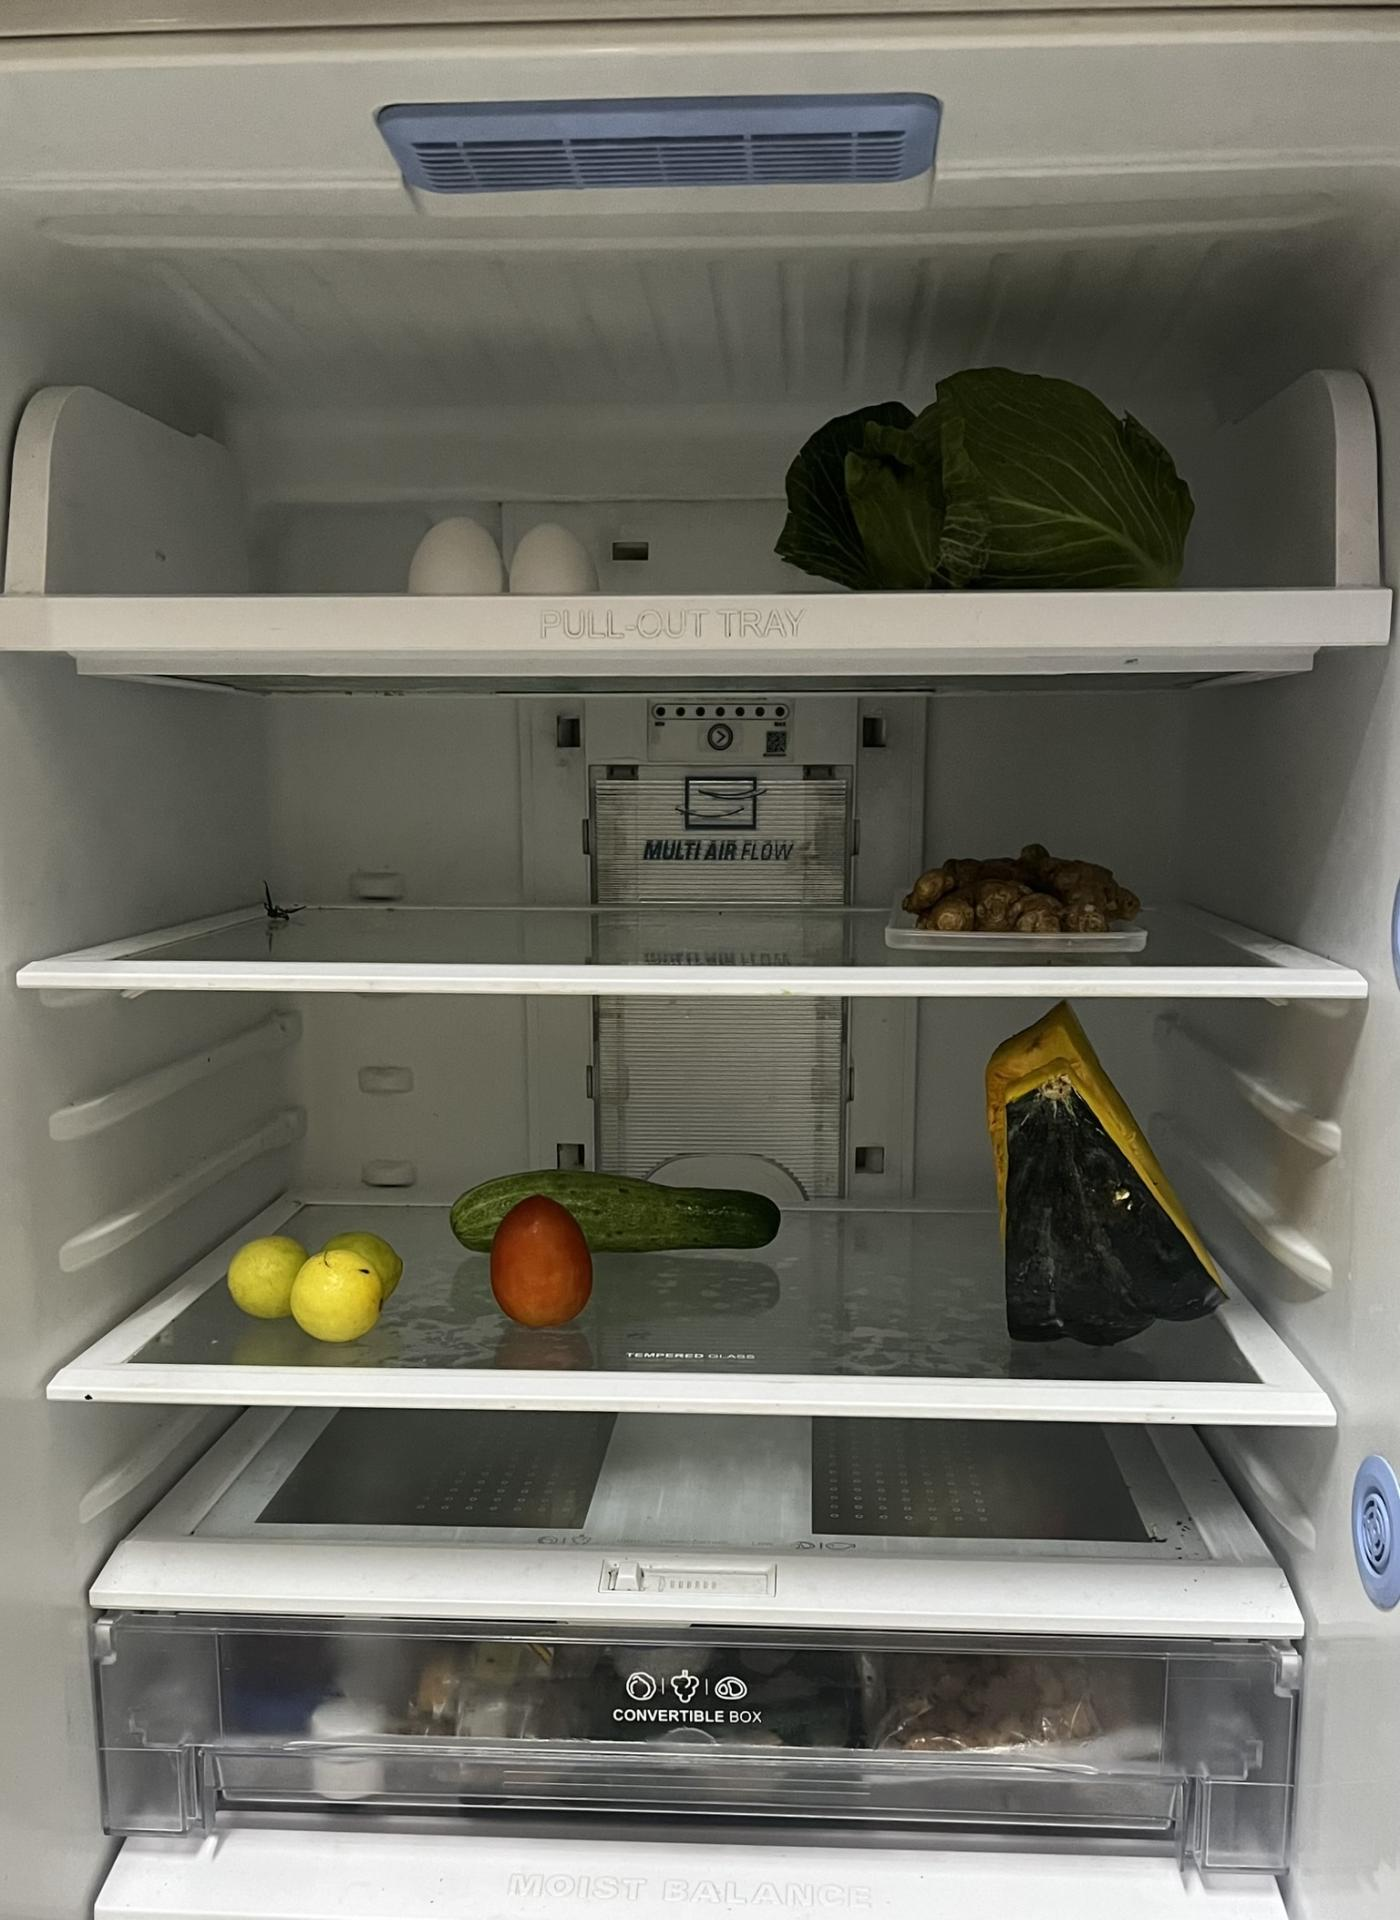cabbage: (807, 365, 1200, 592)
cucumber: (438, 1158, 783, 1248)
egg: (407, 508, 610, 595)
ginger: (890, 838, 1141, 945)
lemon: (225, 1222, 404, 1345)
pumpkin: (980, 997, 1229, 1352)
tomato: (488, 1197, 599, 1334)
